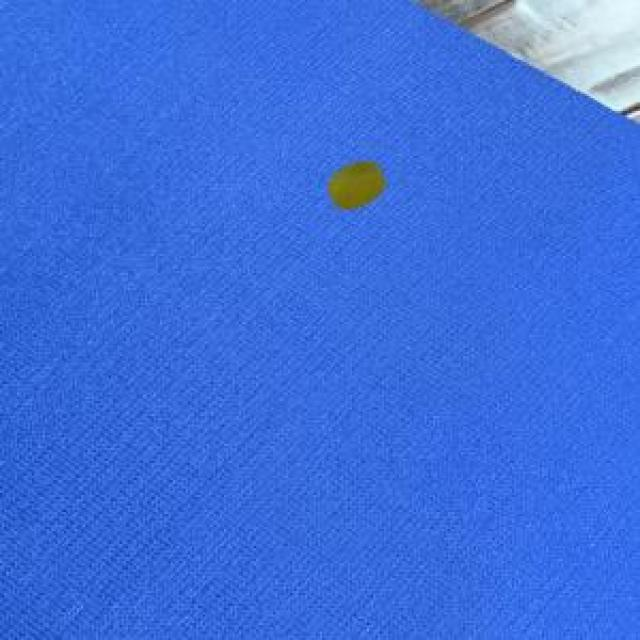Decolgen: (322, 147, 396, 224)
